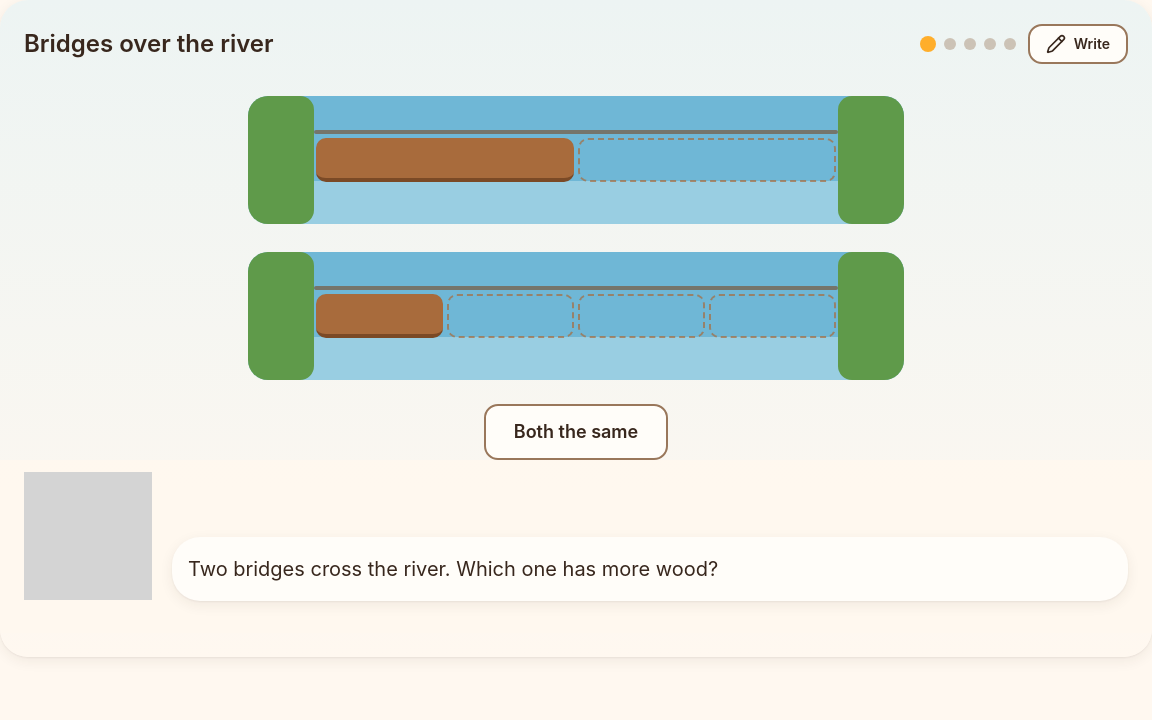
Scenario: LessonPlayer › stays on the step after a miss and counts the try, so the backend can send the hint
This screenshot has width=1152, height=720.
Step 1. Click the button "Both the same" → (576, 432), box [484,404,668,460]
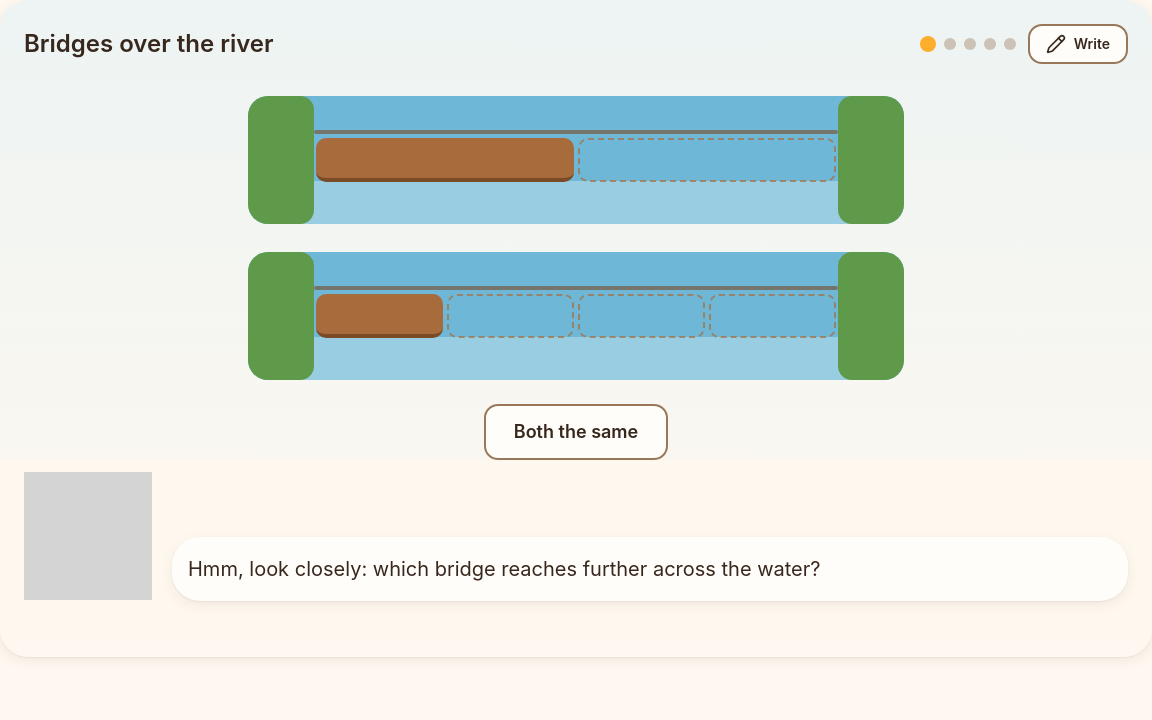
Now the text "Hmm, look closely: which bridge reaches further across the water?" is shown, box [172,537,1128,601]
Step 2. Click the button "Both the same" → (576, 432), box [484,404,668,460]
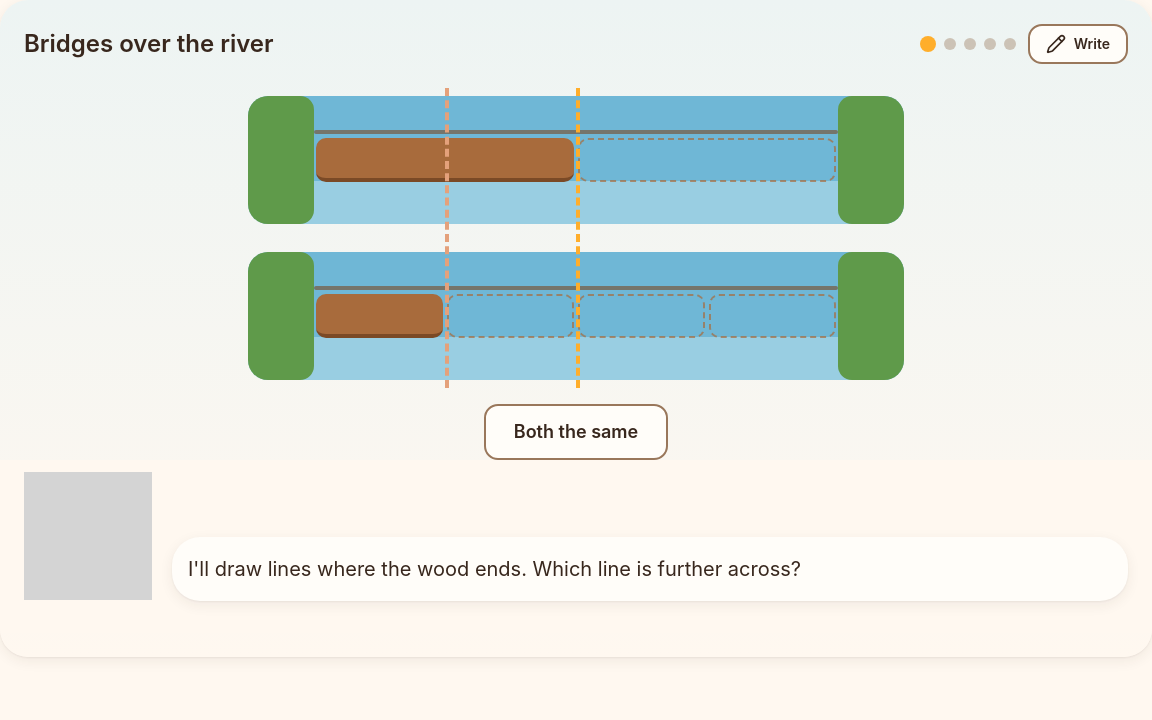
Expected: the button named "upper bridge" is enabled, [240,88,912,232]
Now the text "I'll draw lines where the wood ends. Which line is further across?" is shown, box [172,537,1128,601]
